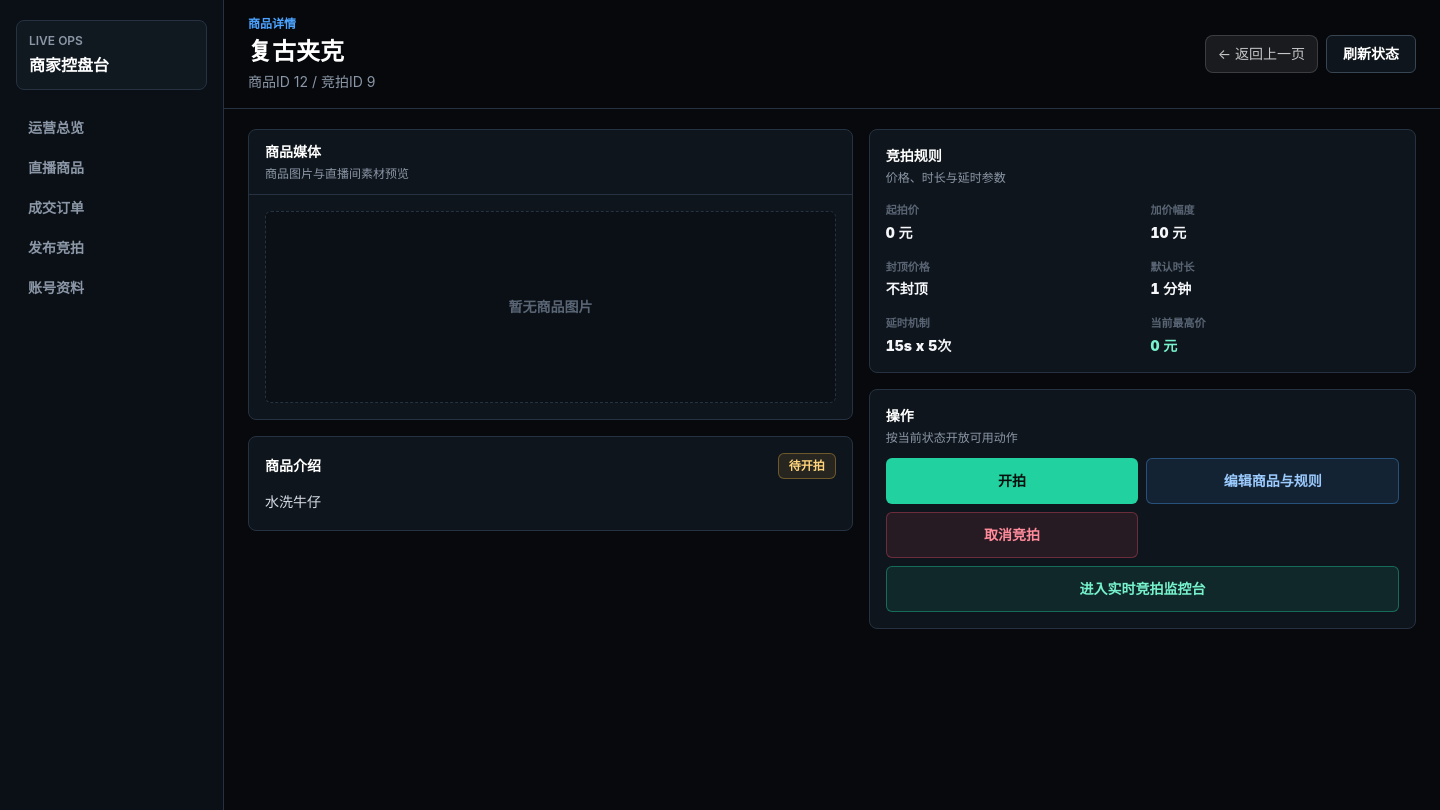
Scenario: ProductDetail › cancels a pending auction with a reason and refreshes the detail state
Click the button "取消竞拍": x=1012, y=534 [886,512,1138,558]
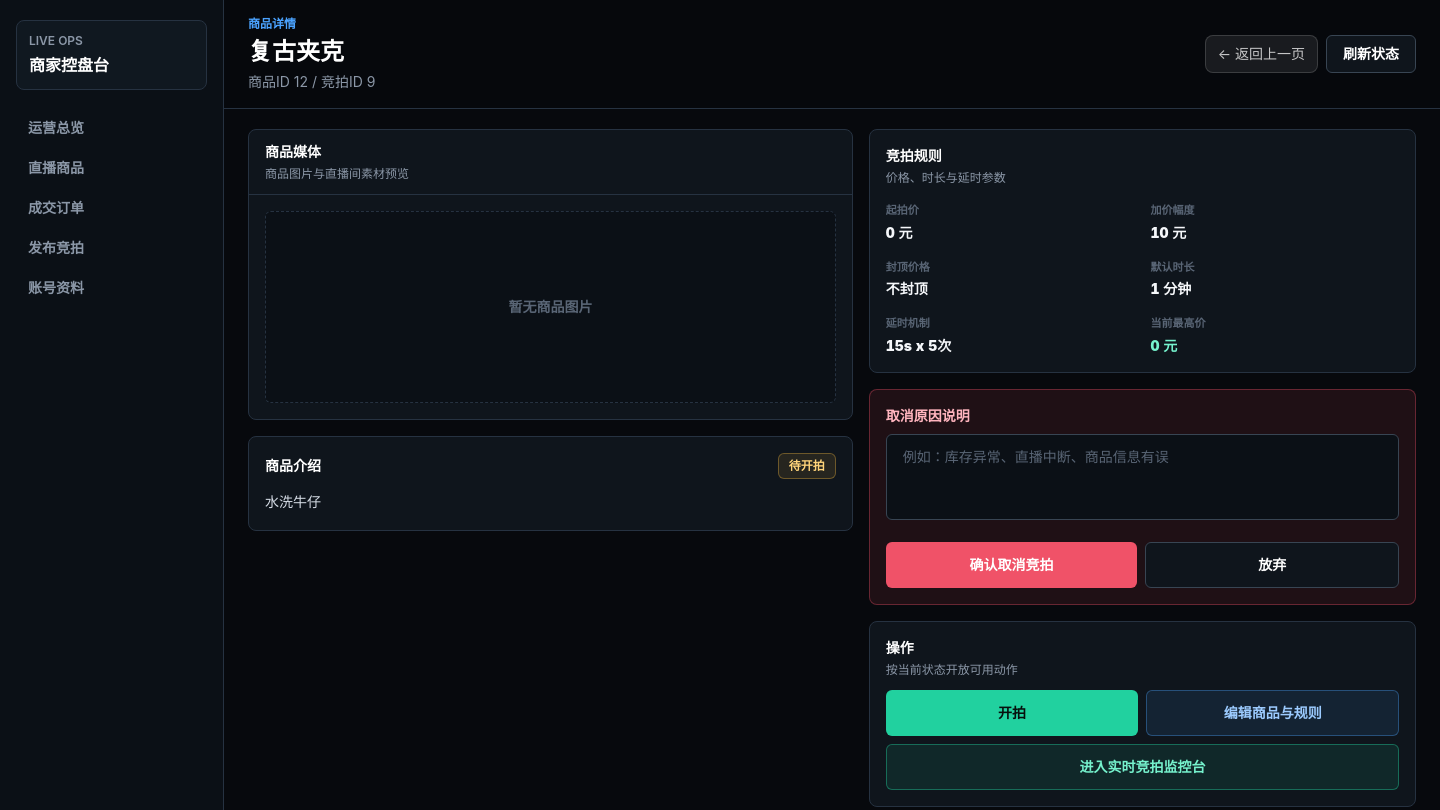
In the text box labelled "取消原因": x=1142, y=476 [886,434,1399,520], type "库存不足"
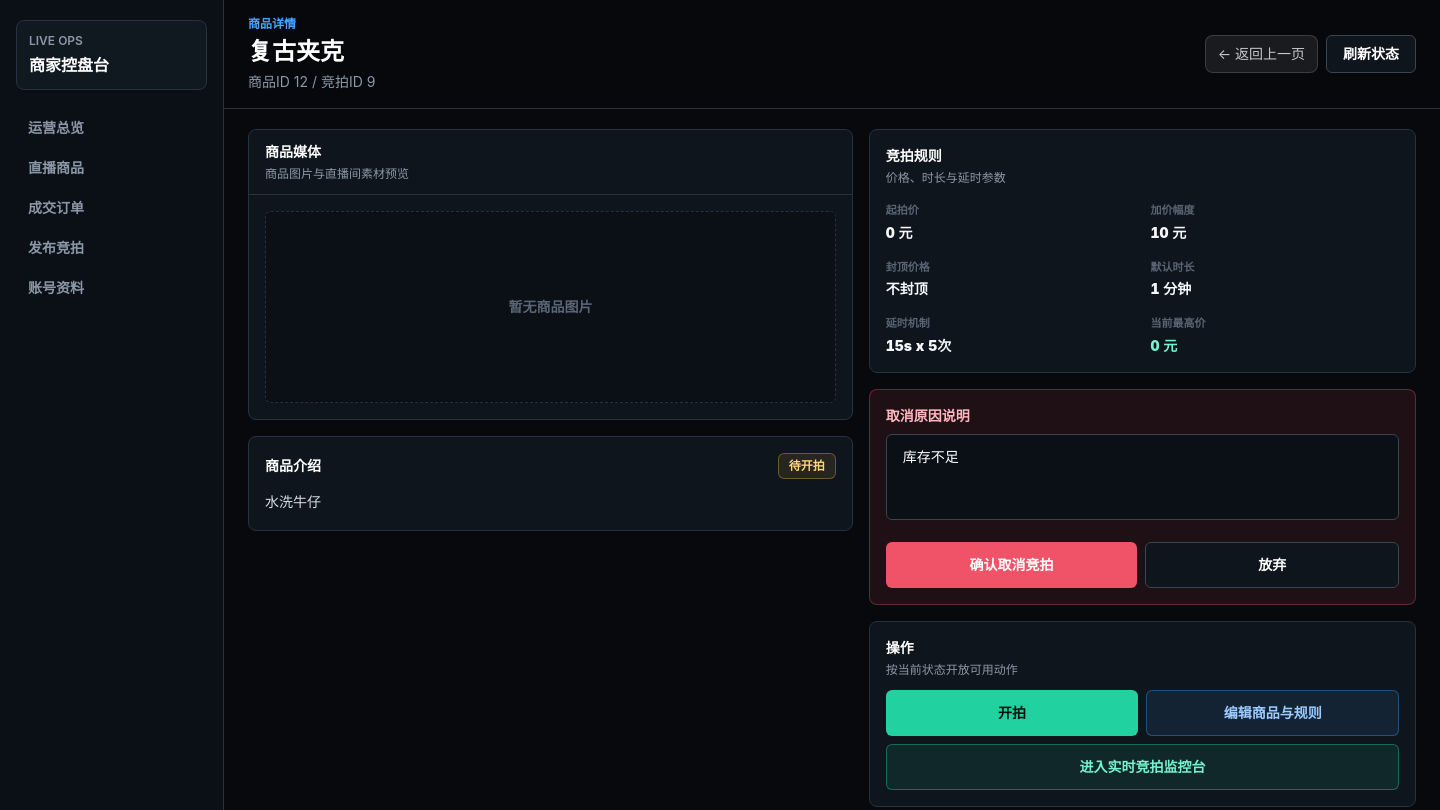
Click the button "确认取消竞拍": x=1012, y=564 [886,542,1137,588]
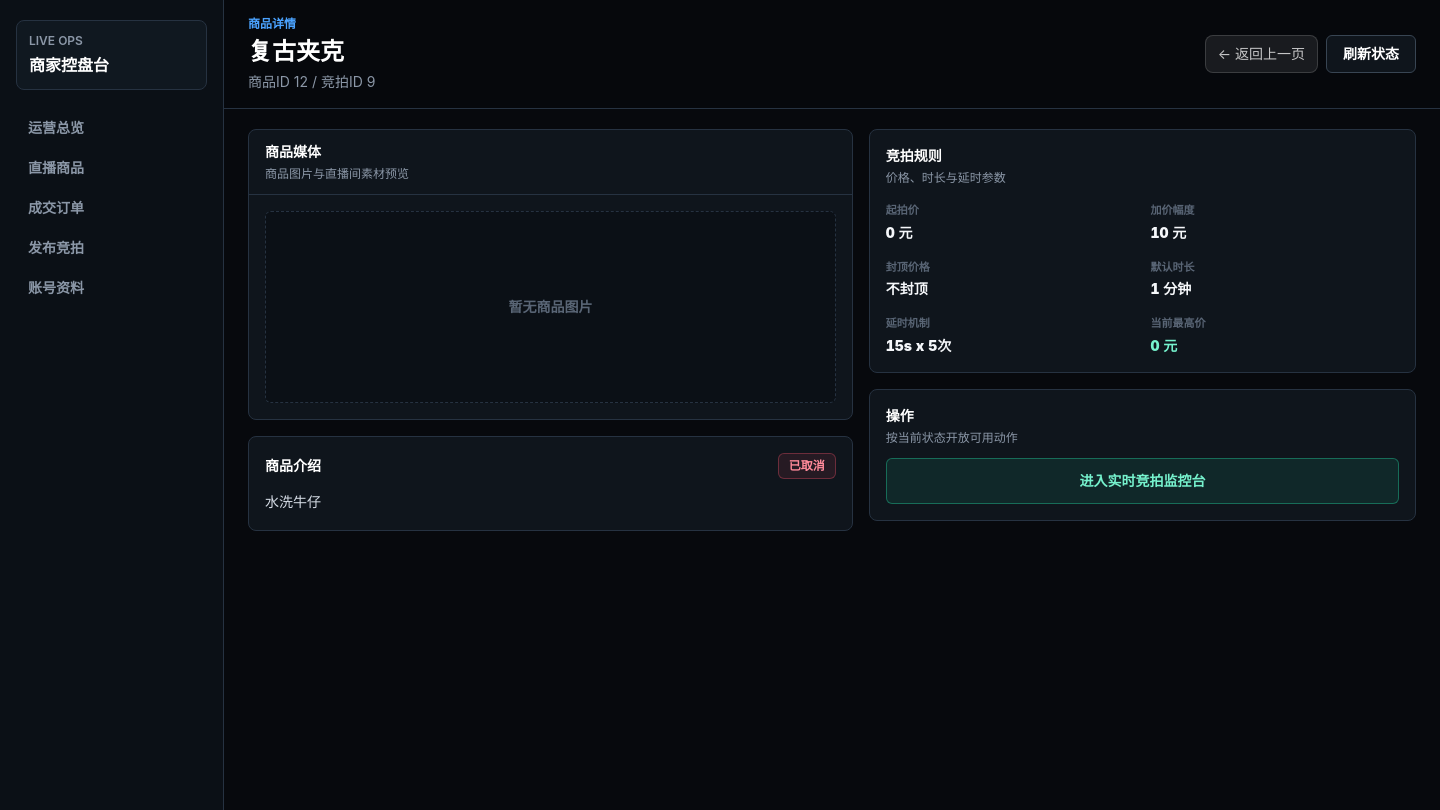
Result: the text "已取消" is shown at [778,453,836,479]
